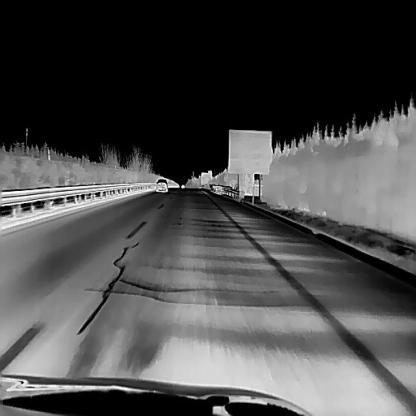car: (155, 177, 167, 192)
